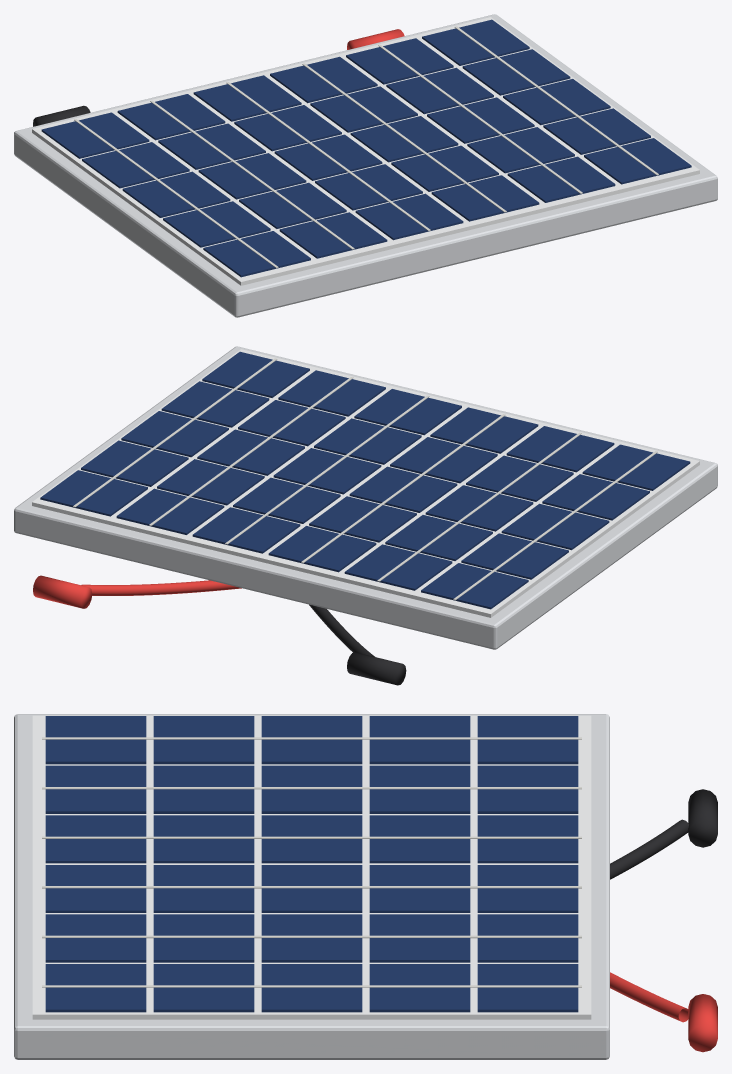
Rendered from solar-module.glb.
3 renders of one model, top to bottom at view 1: azimuth 30°, elevation 25°; view 2: azimuth 150°, elevation 25°; view 3: azimuth 270°, elevation 25°, orthographic. The views are drawn at different scales.
Visible parts, largest first — view 1: frame, backsheet, cell.010, cell.020, cell.007, cell.025, cell.002, cell.004, cell.014, cell, cell.001, cell.015 (+28 smaller); view 2: frame, backsheet, cell.009, cell.004, cell.019, cell.002, cell.010, cell.012, cell.020, cell.024, cell.003, cell.006 (+30 smaller); view 3: frame, backsheet, cell, cell.001, cell.002, cell.003, cell.004, cell.025, cell.026, cell.027, cell.028, cell.029 (+30 smaller).
Part boxes in pixels (x1=…): frame: x1=14, y1=14, x2=717, y2=317; backsheet: x1=32, y1=17, x2=699, y2=285; cell.010: x1=355, y1=193, x2=463, y2=240; cell.020: x1=507, y1=156, x2=615, y2=202; cell.007: x1=198, y1=153, x2=306, y2=199; cell.025: x1=584, y1=138, x2=691, y2=184; cell.002: x1=122, y1=171, x2=230, y2=217; cell.004: x1=41, y1=112, x2=149, y2=158; cell.014: x1=193, y1=75, x2=301, y2=121; cell: x1=203, y1=231, x2=310, y2=277; cell.001: x1=163, y1=201, x2=270, y2=247; cell.015: x1=431, y1=175, x2=539, y2=221; frame: x1=14, y1=346, x2=717, y2=649; backsheet: x1=32, y1=349, x2=699, y2=617; cell.009: x1=344, y1=544, x2=452, y2=590; cell.004: x1=421, y1=563, x2=528, y2=609; cell.019: x1=192, y1=507, x2=300, y2=553; cell.002: x1=501, y1=503, x2=609, y2=550; cell.010: x1=430, y1=407, x2=538, y2=453; cell.012: x1=349, y1=466, x2=457, y2=512; cell.020: x1=278, y1=370, x2=385, y2=416; cell.024: x1=116, y1=488, x2=224, y2=534; cell.003: x1=461, y1=533, x2=568, y2=579; cell.006: x1=466, y1=455, x2=573, y2=501; frame: x1=14, y1=714, x2=609, y2=1059; backsheet: x1=32, y1=715, x2=591, y2=1019; cell: x1=45, y1=716, x2=146, y2=764; cell.001: x1=153, y1=716, x2=254, y2=764; cell.002: x1=261, y1=716, x2=362, y2=764; cell.003: x1=369, y1=716, x2=470, y2=764; cell.004: x1=477, y1=716, x2=578, y2=764; cell.025: x1=45, y1=964, x2=146, y2=1012; cell.026: x1=153, y1=964, x2=254, y2=1012; cell.027: x1=261, y1=964, x2=362, y2=1012; cell.028: x1=369, y1=964, x2=470, y2=1012; cell.029: x1=477, y1=964, x2=578, y2=1012.
Size of the model in its own units: 0.4 by 0.043 by 0.378.
